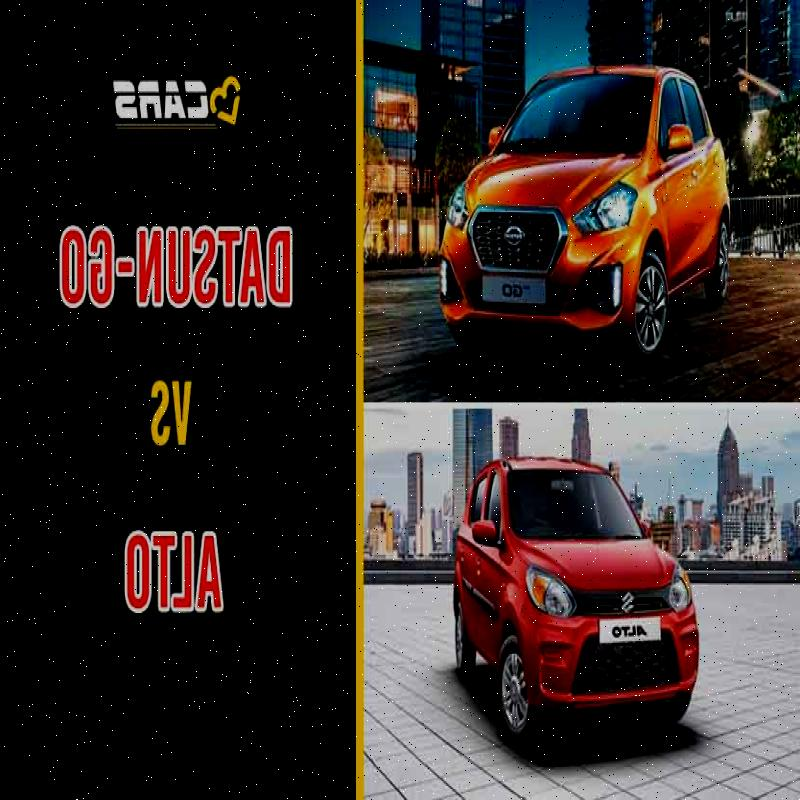car: (428, 41, 755, 359), (457, 436, 696, 740), (678, 287, 685, 360)
